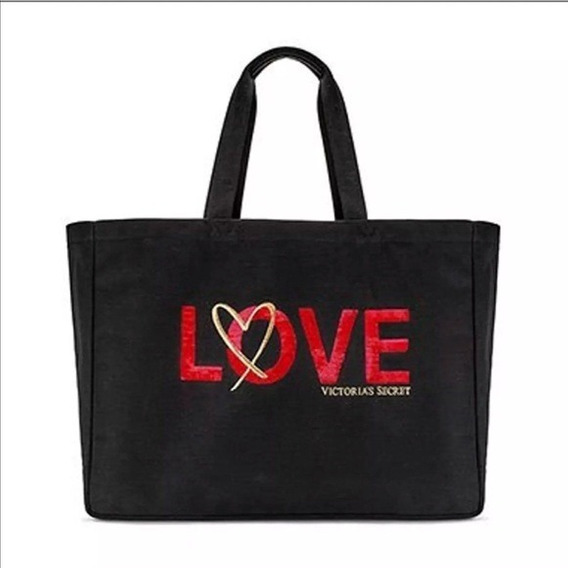cartera: (65, 45, 501, 524)
